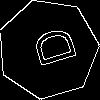D: (23, 24, 78, 72)
